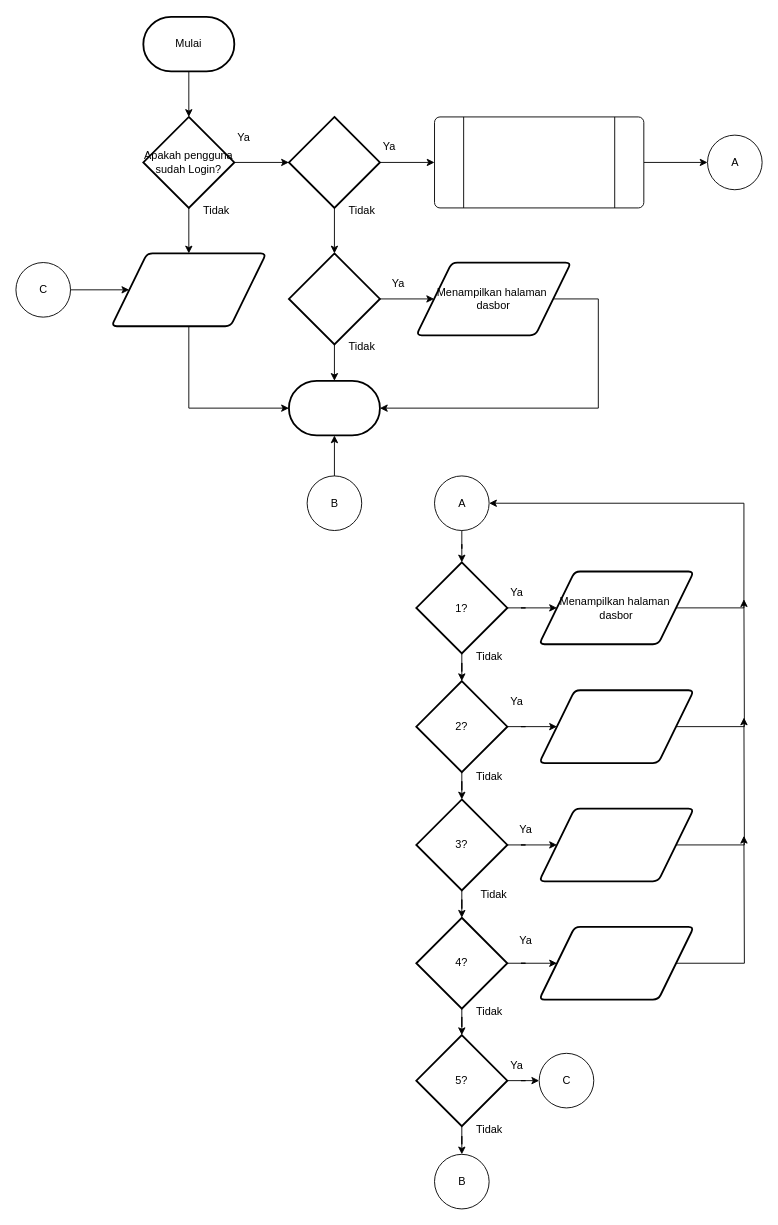
Image size: 778x1225. Some labels were removed from this diagram. Here are the shapes that lost their labels. From the top down, the box of each, then its label:
(288, 116, 380, 208): Apakah rolenya adalah Admin?
(434, 116, 644, 208): Dasbor Kelola Data Barang Kelola Pengguna Riwayat Transaksi Logout
(110, 252, 267, 327): Menampilkan halaman login
(288, 252, 380, 345): Apakah rolenya adalah Kasir?
(288, 379, 380, 436): Selesai
(538, 689, 694, 763): Menampilkan halaman data-data barang
(538, 807, 694, 882): Menampilkan halaman kelola pengguna
(538, 925, 694, 1000): Menampilkan halaman riwayat transaksi
